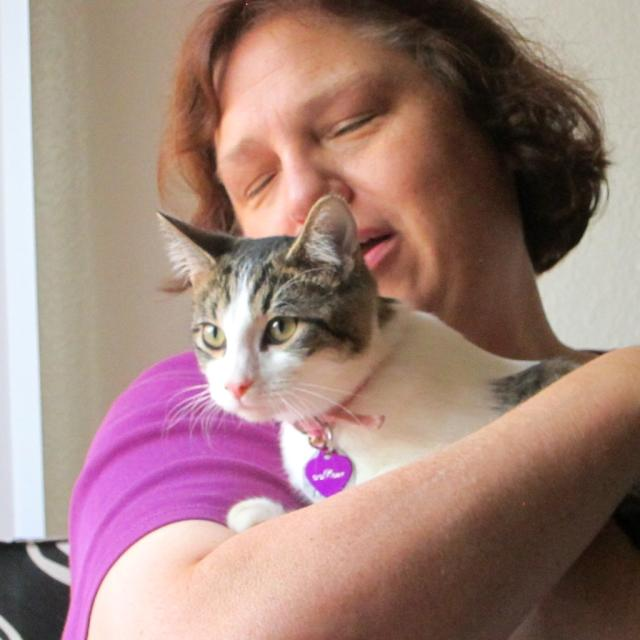Cat: (155, 209, 639, 532)
